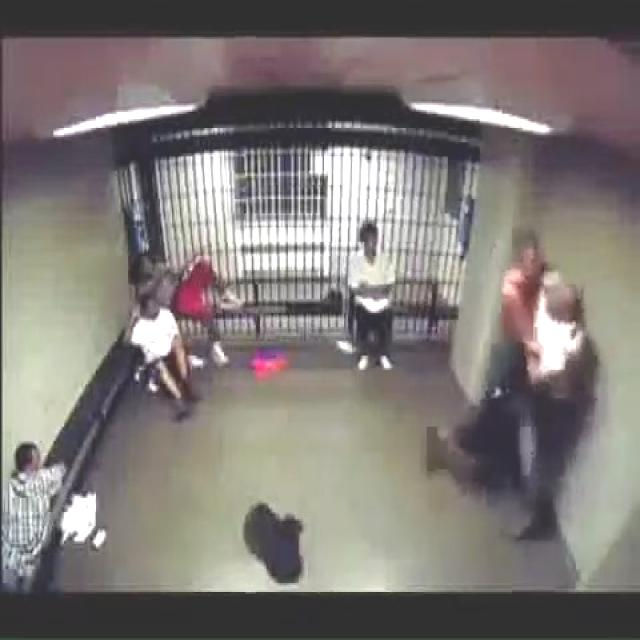fight: (455, 223, 593, 551)
